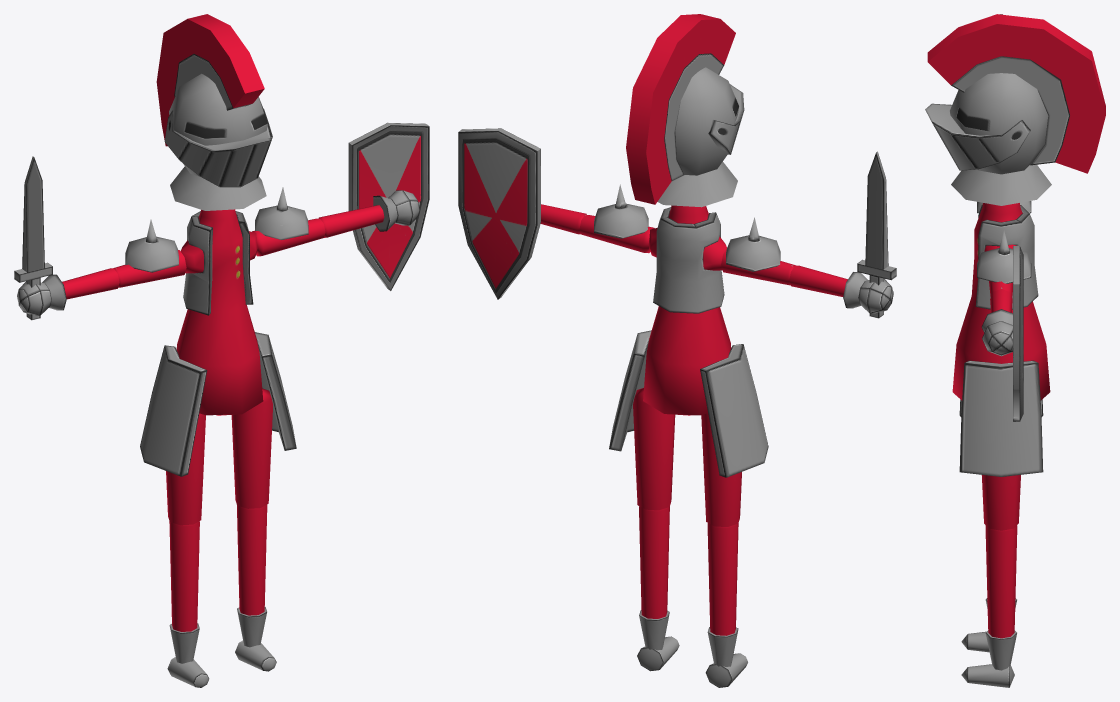
Rendered from Mfort_Mon.fbx.
3 views of the same model, side by side, from view 1: azimuth 30°, elevation 25°; view 2: azimuth 150°, elevation 25°; view 3: azimuth 270°, elevation 25° (orthographic).
Visible parts, largest first — view 1: Body, Head, Hand_L, Hand_R, UpperLeg_L, LowerLeg_R, LowerLeg_L, UpperArm_R, UpperArm_L, UpperLeg_R, ForeArm_L, ForeArm_R (+4 smaller); view 2: Body, Head, Hand_L, Hand_R, UpperLeg_L, LowerLeg_R, LowerLeg_L, UpperArm_R, UpperArm_L, UpperLeg_R, ForeArm_R, ForeArm_L (+4 smaller); view 3: Head, Body, LowerLeg_L, Hand_L, UpperLeg_L, UpperArm_L, Foot_L, Ankle_L, ForeArm_L, Foot_R.
Boxes of the visible parts, box(x1,y1,x2,y2) form: Body: box(140, 209, 296, 476); Head: box(156, 14, 272, 210); Hand_L: box(348, 122, 429, 290); Hand_R: box(14, 156, 66, 320); UpperLeg_L: box(231, 388, 272, 508); LowerLeg_R: box(169, 521, 199, 631); LowerLeg_L: box(237, 505, 267, 615); UpperArm_R: box(113, 219, 186, 287); UpperArm_L: box(252, 187, 325, 256); UpperLeg_R: box(166, 413, 205, 525); ForeArm_L: box(318, 205, 384, 237); ForeArm_R: box(62, 268, 119, 299); Body: box(609, 205, 768, 477); Head: box(626, 14, 744, 207); Hand_L: box(458, 128, 540, 299); Hand_R: box(843, 151, 896, 318); UpperLeg_L: box(633, 388, 675, 510); LowerLeg_R: box(707, 523, 738, 635); LowerLeg_L: box(639, 506, 669, 618); UpperArm_R: box(721, 217, 795, 285); UpperArm_L: box(579, 184, 654, 253); UpperLeg_R: box(701, 413, 741, 526); ForeArm_R: box(789, 265, 847, 296); ForeArm_L: box(540, 204, 586, 234); Head: box(925, 14, 1105, 205); Body: box(952, 203, 1050, 476); LowerLeg_L: box(985, 525, 1017, 638); Hand_L: box(981, 246, 1023, 421); UpperLeg_L: box(981, 475, 1020, 530); UpperArm_L: box(977, 230, 1031, 297); Foot_L: box(961, 664, 1014, 687); Ankle_L: box(985, 630, 1016, 670); ForeArm_L: box(990, 289, 1012, 312); Foot_R: box(961, 631, 989, 652).
Size of the model in its own units: 197 by 290 by 72.96.
